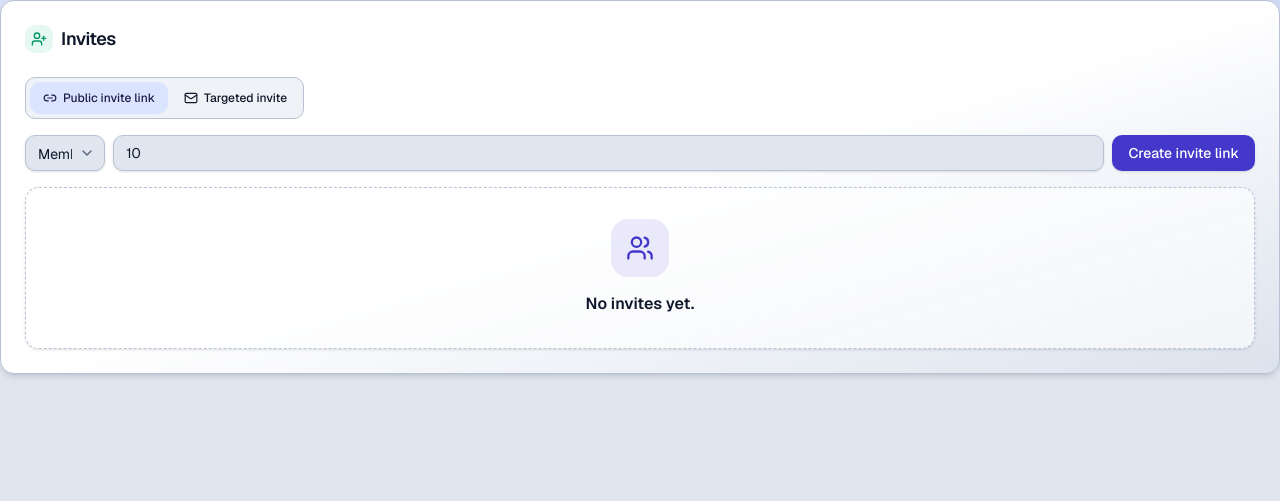
Scenario: WorkspaceInvitesSection › creates a public invite link
This screenshot has width=1280, height=501.
What coordinates should you click on to do the following:
click the button "Create invite link"
I would click on:
 (1184, 153)
Its box is [1112, 135, 1255, 171].
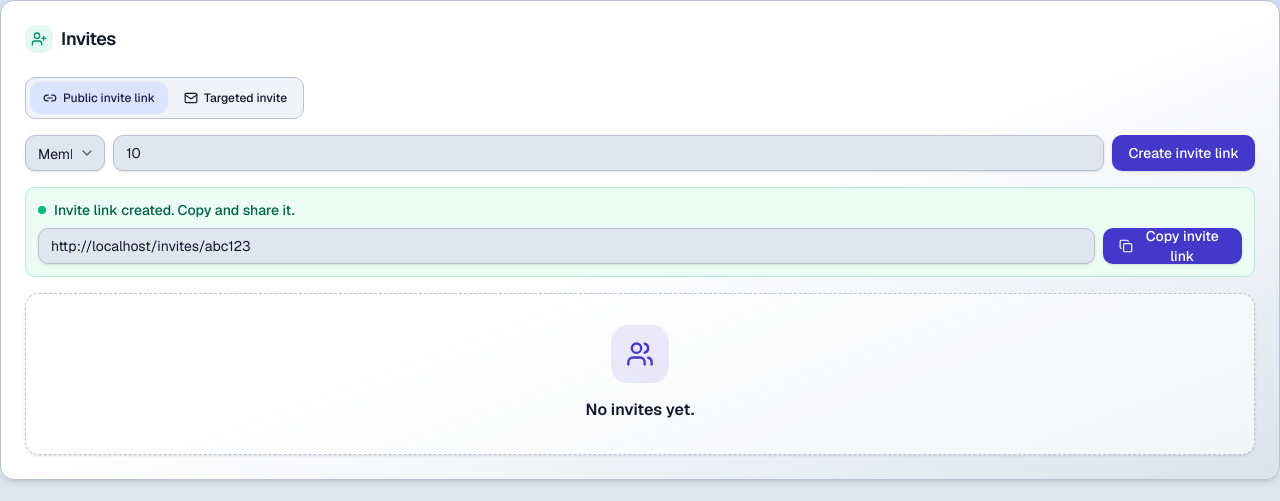
Expected: the field showing "/invites/abc123" is shown, [38, 228, 1095, 264]
